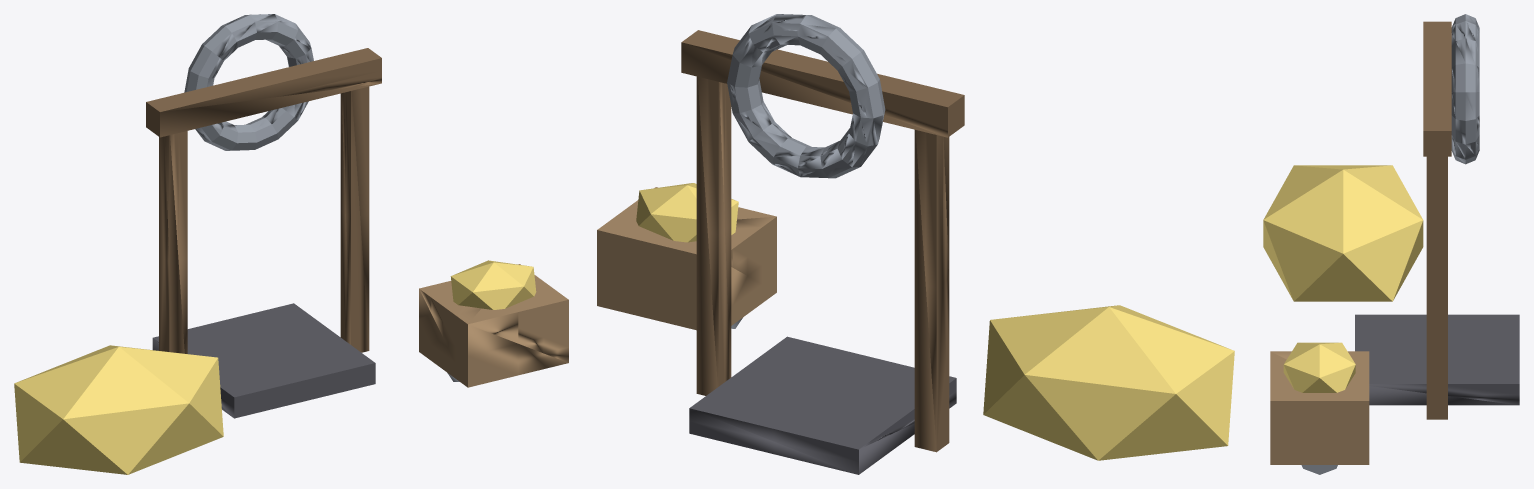
File: gold_mine.glb
The picture shows the model from 3 angles, left to right: view 1: azimuth 30°, elevation 25°; view 2: azimuth 150°, elevation 25°; view 3: azimuth 270°, elevation 25°; orthographic projection. The views are drawn at different scales.
Parts seen in each view (by area): view 1: GoldMineLegL; view 2: GoldMineLegL; view 3: GoldMineLegL.
Part boxes in pixels (x1,y1,x2,y2): GoldMineLegL: (14,14,568,474); GoldMineLegL: (597,14,1234,474); GoldMineLegL: (1263,14,1519,474).
Bounding box in the file's own units: 2.54 × 1.74 × 1.09.
